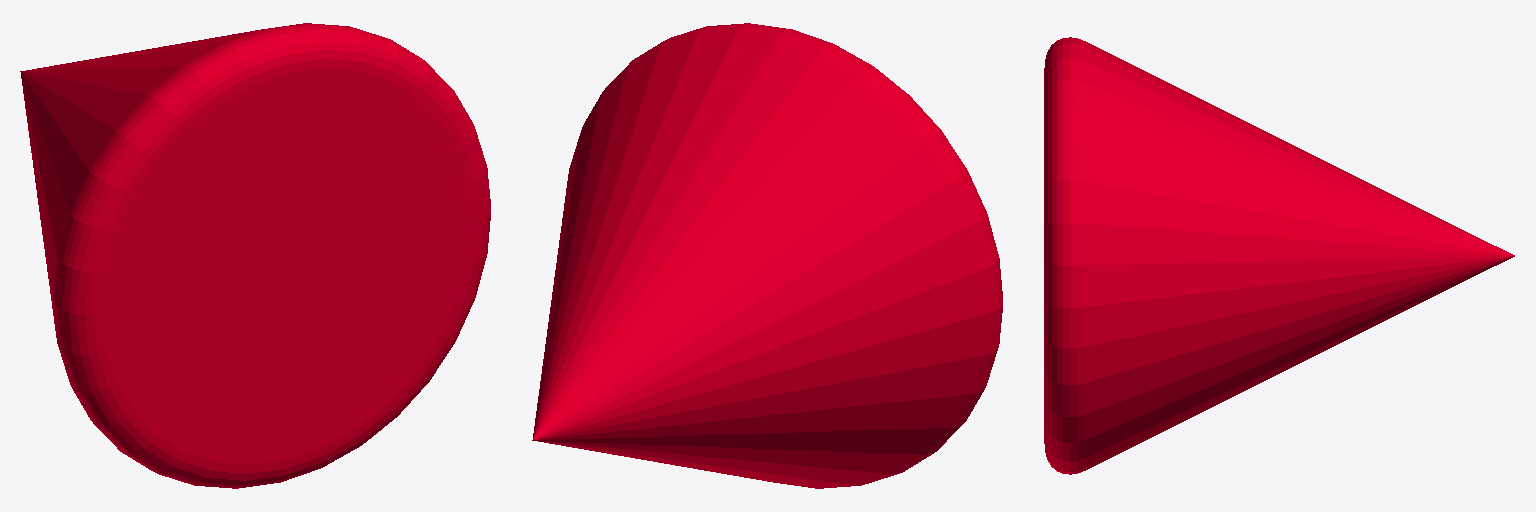
robot.urdf — cone.urdf:
<?xml version="1.0" ?>
<robot name="cone.urdf">
  <link name="cone">
    <contact>
    	<friction_anchor/>
    	   <lateral_friction value="1.0"/>
    </contact>
    <inertial>
      <origin rpy="0 0 0" xyz="0 0 0"/>
       <mass value=".1"/>
       <inertia ixx="1" ixy="0" ixz="0" iyy="1" iyz="0" izz="1"/>
    </inertial>
    <visual>
      <origin rpy="0 0 0" xyz="0 0 0"/>
      <geometry>
				<mesh filename="cone_rounded.obj" scale="1.0 1.0 1.0"/>
      </geometry>
       <material name="red">
        <color rgba="0.9 0 0.2 1.0"/>
      </material>
    </visual>
    <collision>
      <origin rpy="0 0 0" xyz="0 0 0"/>
      <geometry>
				<mesh filename="cone_rounded.obj" scale="1.0 1.0 1.0"/>
      </geometry>
    </collision>
  </link>
</robot>

--- Render facts (derived) ---
3 views of the same robot in one strip: view 1: azimuth 30°, elevation 25°; view 2: azimuth 150°, elevation 25°; view 3: azimuth 270°, elevation 25° (orthographic).
Robot: cone.urdf — 1 links, 0 joints (none); root link cone; default pose: all joints at 0.
Links seen in each view (by area): view 1: cone; view 2: cone; view 3: cone.
Boxes of the visible links, x1,y1,x2,y2 form: cone: (20,23,490,488); cone: (532,23,1002,488); cone: (1044,37,1514,474).
Size in the robot's own frame: 0.0929 by 0.1 by 0.0929 metres.
1 mesh visuals loaded from 1 distinct referenced files (1 OBJ).